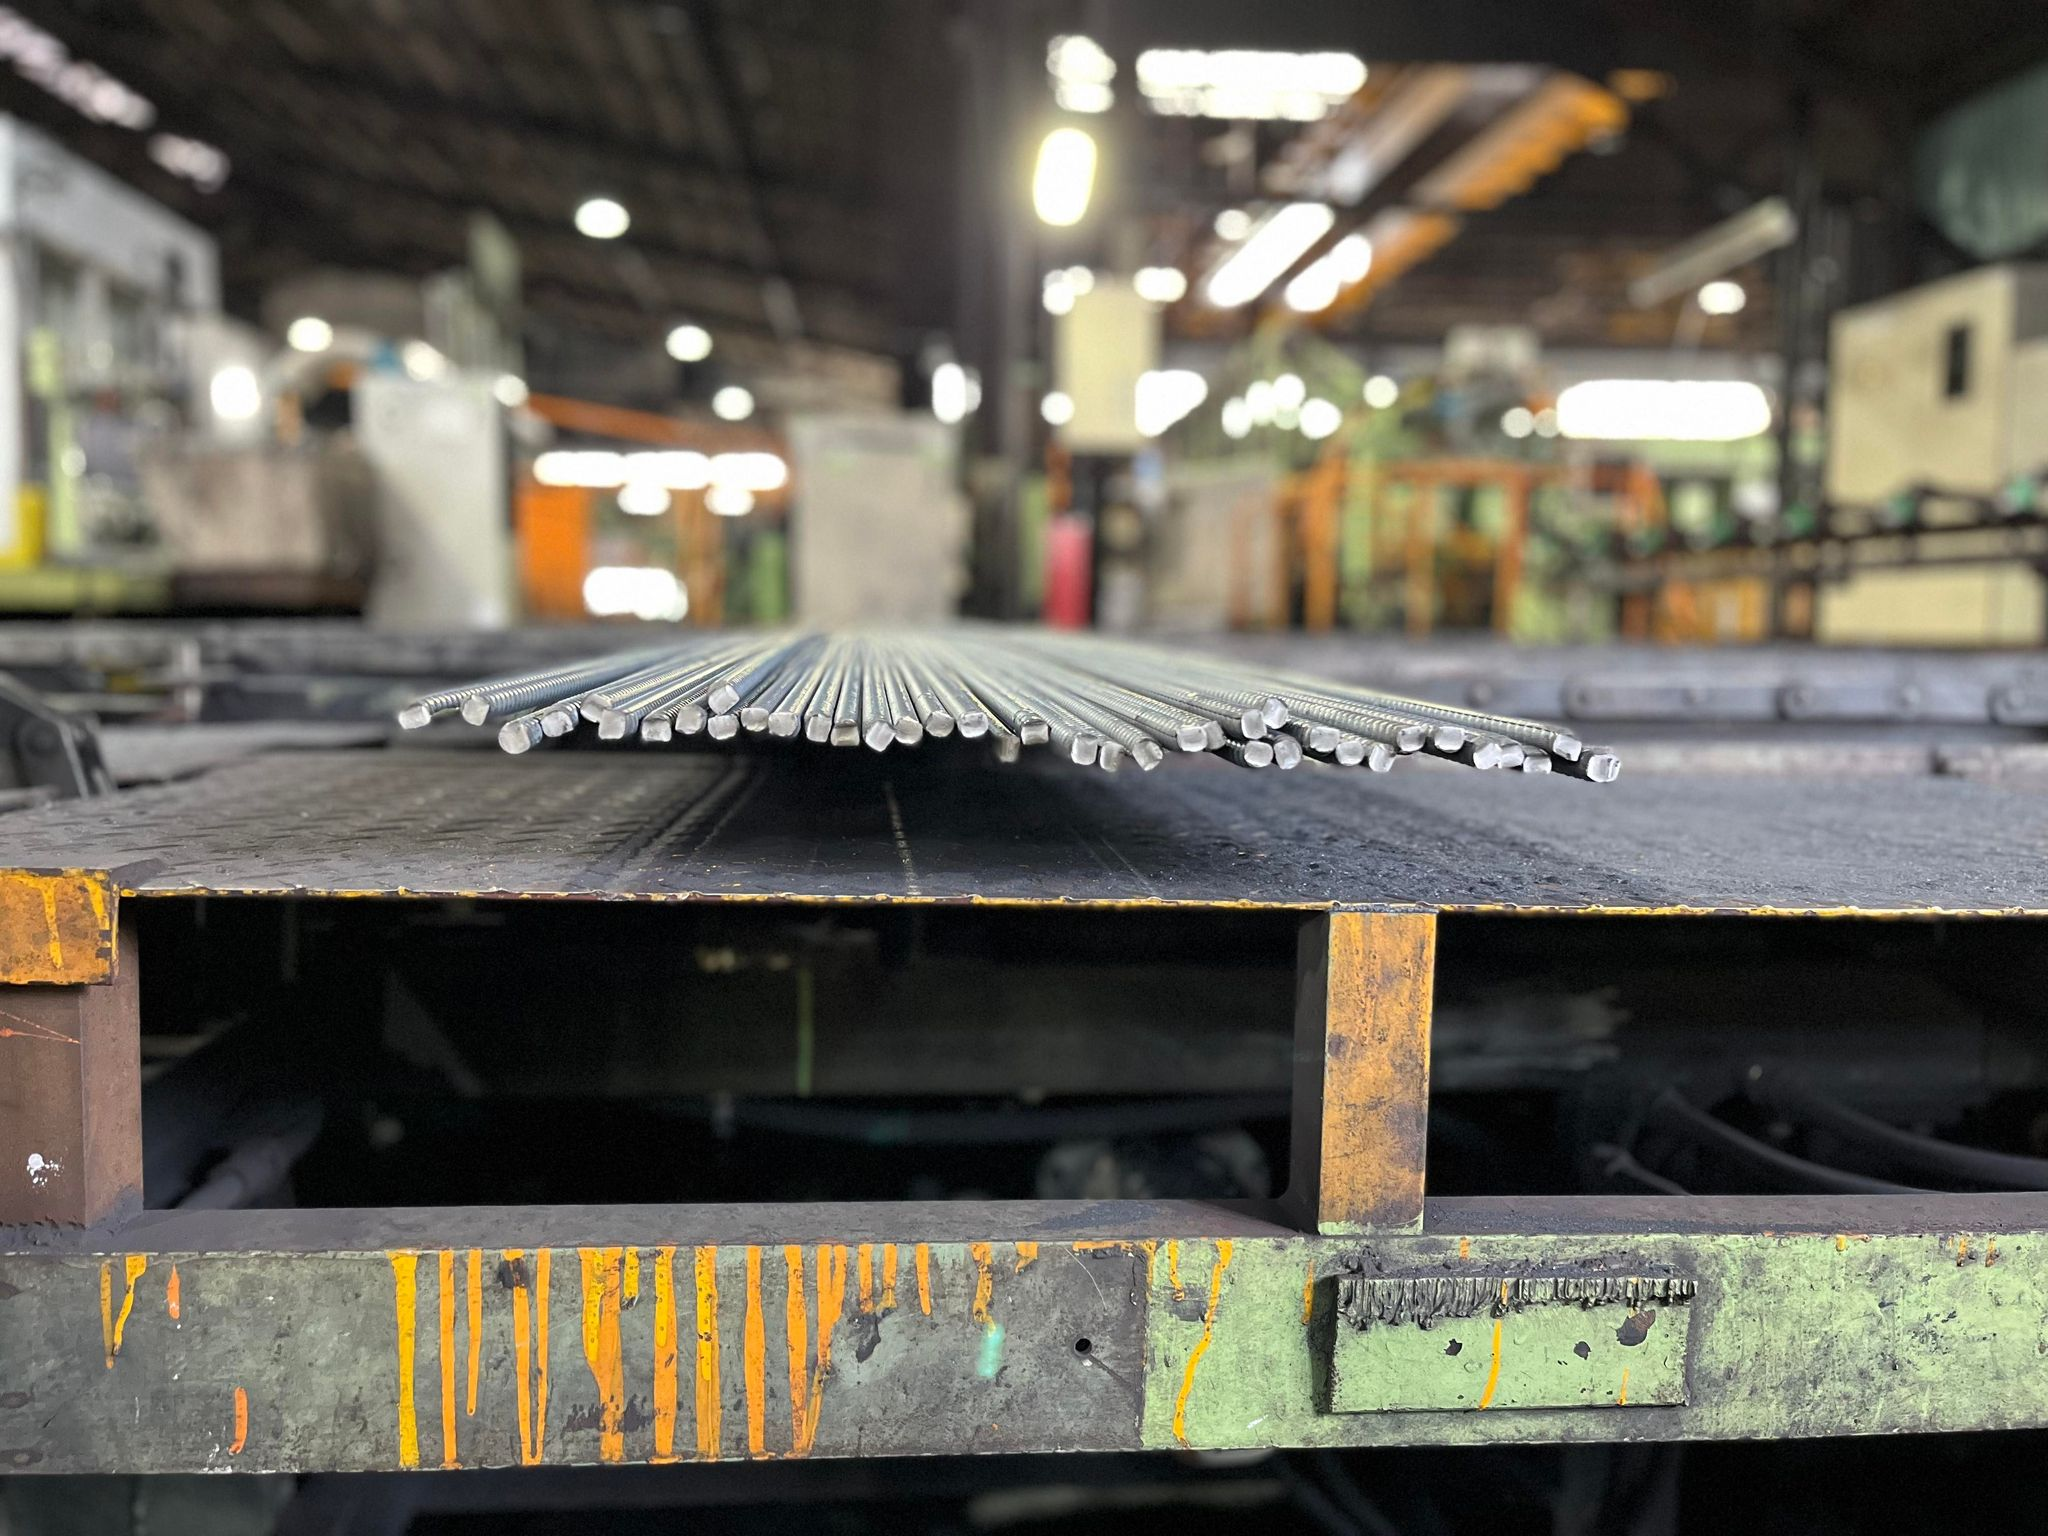rod: (497, 720, 537, 757), (1129, 734, 1166, 773), (1584, 750, 1622, 786), (539, 707, 576, 741), (1172, 721, 1206, 757), (1469, 739, 1505, 773), (705, 682, 742, 715), (1068, 729, 1100, 766), (595, 707, 629, 741), (672, 702, 706, 736), (458, 692, 490, 728), (956, 708, 992, 741), (397, 700, 434, 731), (577, 694, 614, 724), (826, 716, 863, 747), (639, 712, 672, 744), (863, 720, 897, 752), (1019, 716, 1053, 749), (1550, 731, 1584, 763), (1272, 736, 1303, 771), (1393, 724, 1430, 753), (1430, 724, 1467, 753), (801, 710, 832, 744), (1097, 741, 1127, 774), (1334, 737, 1367, 768), (1366, 741, 1397, 774), (705, 713, 740, 742), (1240, 741, 1276, 770), (1261, 694, 1290, 729), (924, 708, 955, 741), (1522, 745, 1555, 776), (768, 708, 801, 737), (1308, 724, 1342, 753), (1238, 708, 1268, 741), (995, 731, 1022, 765), (740, 703, 769, 734), (893, 715, 922, 745), (1205, 715, 1227, 752), (1500, 741, 1526, 770)
